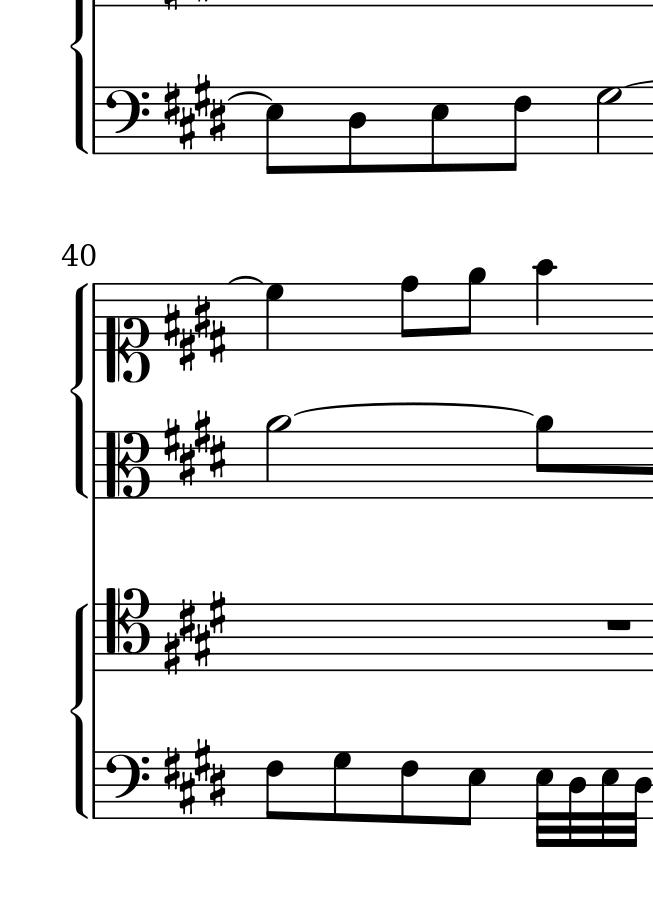0: (79, 242, 96, 268)
2_7: (595, 86, 623, 156)
2_9: (265, 415, 293, 501)
32_4: (627, 750, 653, 851), (567, 749, 587, 850)
32_5: (599, 750, 620, 848), (534, 750, 554, 850)
4: (60, 242, 78, 269)
4_10: (533, 259, 554, 353)
4_7: (264, 283, 283, 351)
8_4: (346, 85, 369, 175)
8_5: (459, 749, 487, 828), (430, 85, 451, 174), (265, 85, 285, 177)
8_6: (503, 85, 533, 173), (399, 750, 420, 826), (265, 750, 285, 822)
8_7: (331, 749, 352, 823)
8_8: (399, 275, 420, 353)
8_9: (462, 266, 485, 352), (534, 414, 554, 500)
Brace: (67, 602, 90, 821), (68, 283, 90, 500)
Cclef: (106, 430, 153, 500)
E_S: (160, 590, 229, 677), (164, 283, 227, 371), (162, 72, 225, 152), (163, 739, 227, 815), (163, 408, 226, 484)
Fclef: (101, 749, 150, 823), (103, 83, 150, 156)
Rests1: (602, 615, 634, 633)
Single_barline: (87, 750, 104, 821), (87, 603, 104, 671), (87, 85, 103, 155), (88, 431, 104, 499), (88, 282, 103, 350)
Slur: (292, 401, 533, 418), (225, 91, 273, 102), (227, 275, 264, 284)
Soprano_Cclef: (103, 282, 150, 388)
Tensor_Cclef: (103, 584, 151, 674)
